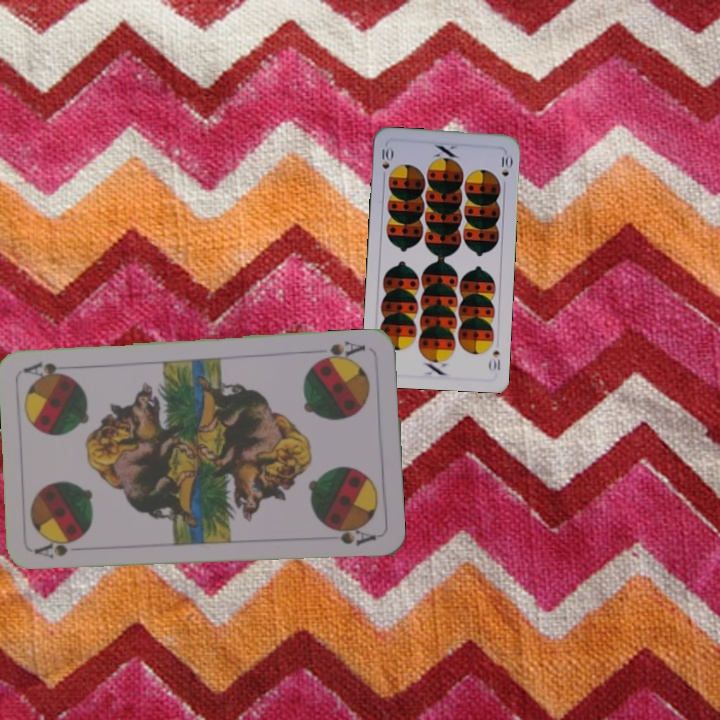S10: (378, 144, 395, 182), (485, 346, 503, 374)
SA: (30, 533, 86, 562), (313, 337, 368, 365)
